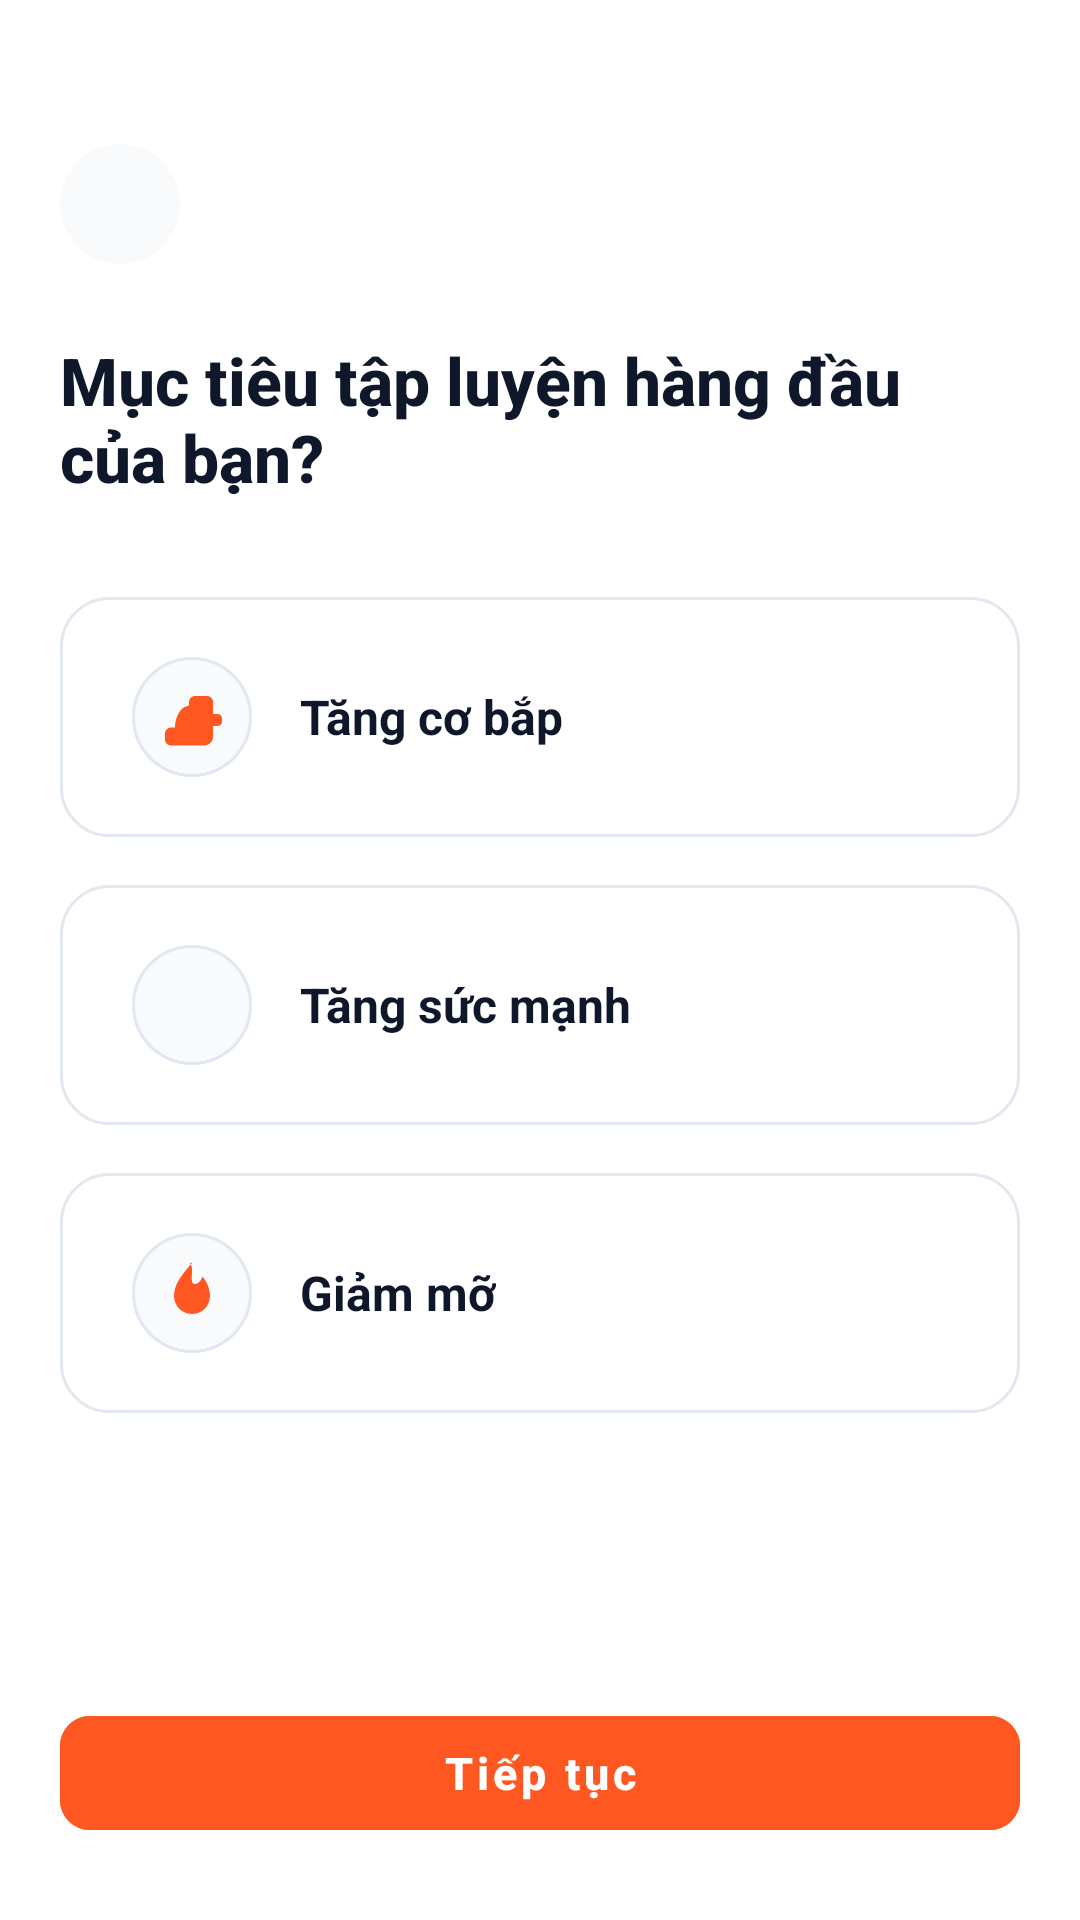

Icon bounding boxes for this 1080×1920 phone screenshot, format detection(x1, y1, x2, y2):
Build Muscle: detection(132, 657, 252, 777)
Fat Loss: detection(132, 1233, 252, 1353)
